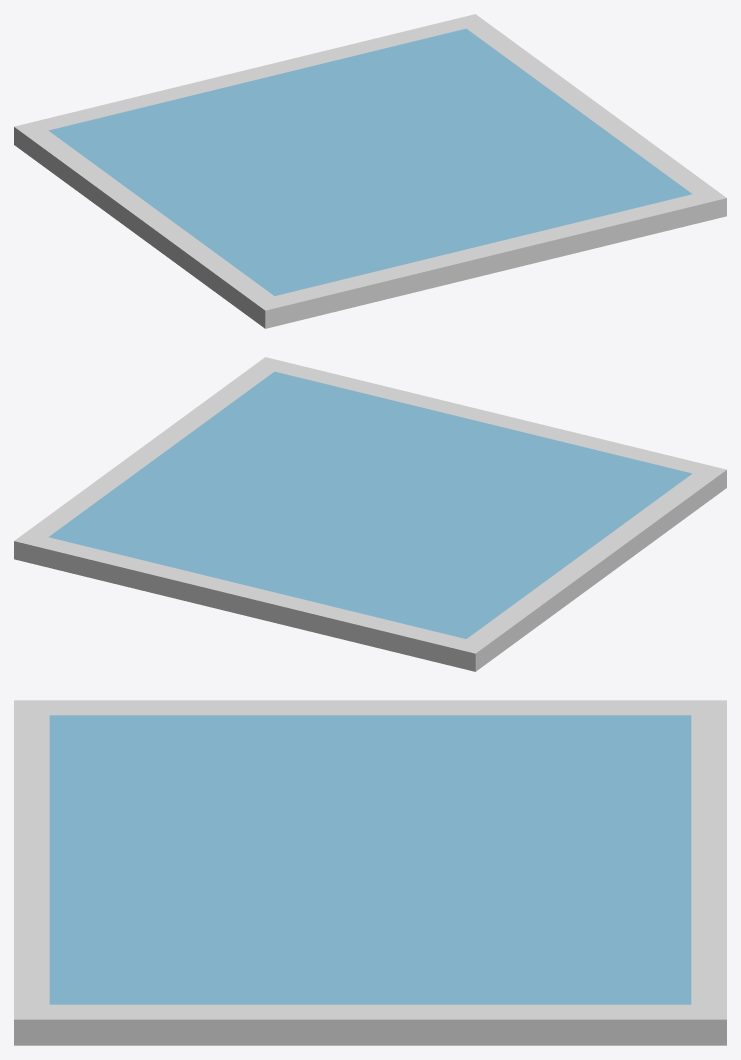
Rendered from KAC-F600_Fridge_V1_Shelf.glb.
3 renders of one model, top to bottom at view 1: azimuth 30°, elevation 25°; view 2: azimuth 150°, elevation 25°; view 3: azimuth 270°, elevation 25°, orthographic. The views are drawn at different scales.
Parts seen in each view (by area): view 1: KAC-F600_Fridge_V1_Shelf; view 2: KAC-F600_Fridge_V1_Shelf; view 3: KAC-F600_Fridge_V1_Shelf.
Part boxes in pixels (x1,y1,x2,y2): KAC-F600_Fridge_V1_Shelf: (14, 14, 726, 328); KAC-F600_Fridge_V1_Shelf: (14, 357, 726, 671); KAC-F600_Fridge_V1_Shelf: (14, 700, 726, 1045).
Bounding box in the file's own units: 0.53 × 0.02 × 0.5.
1 material, 1 textured.
